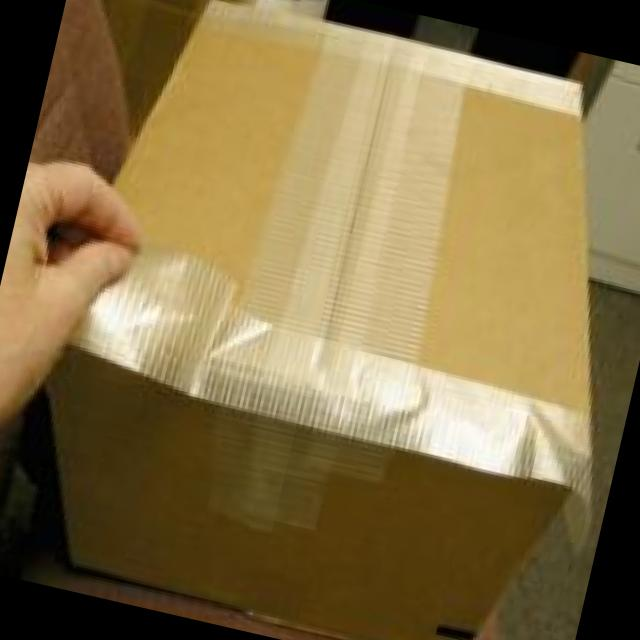box: (0, 64, 619, 640)
crushed: (369, 212, 618, 362)
